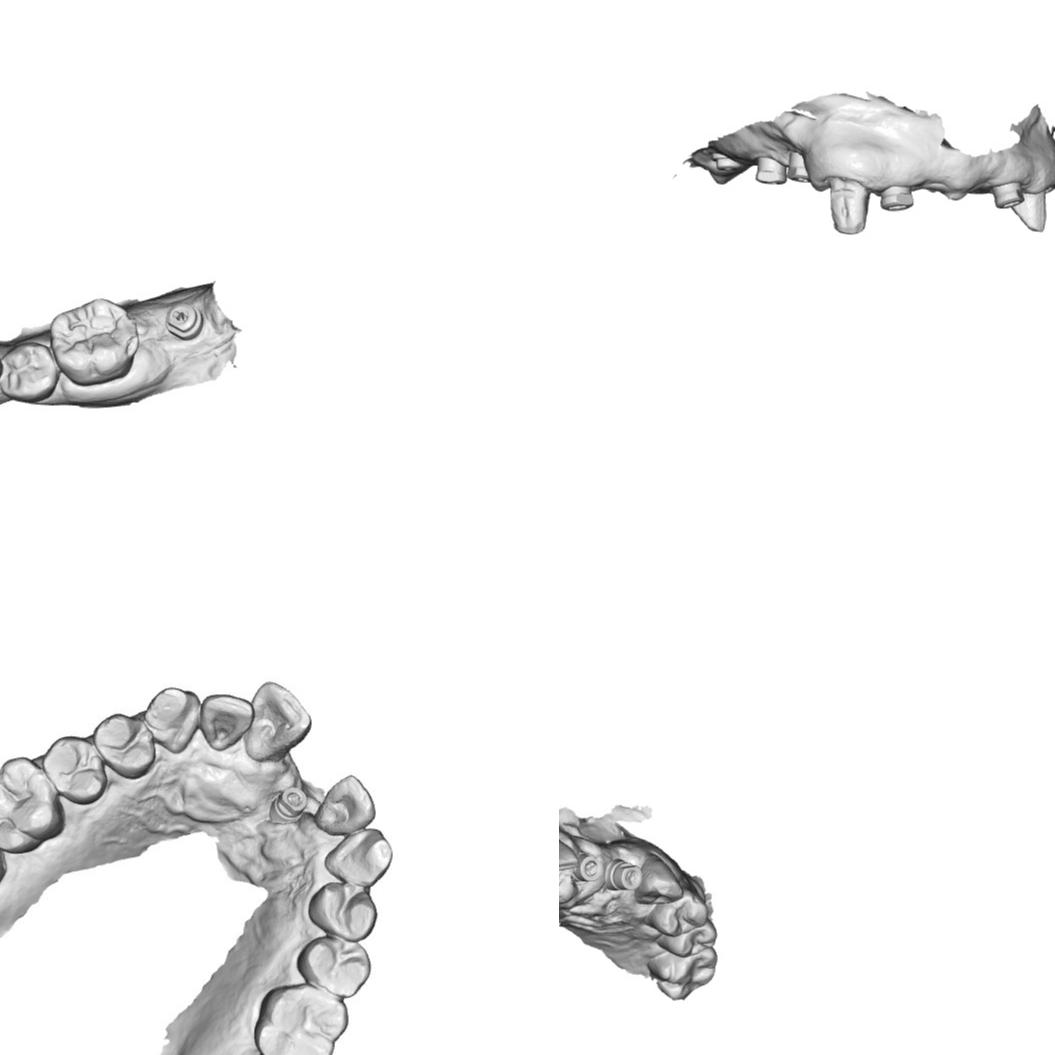canine: (143, 684, 200, 756), (323, 827, 391, 887), (632, 850, 686, 906)
implant: (262, 781, 313, 830), (603, 854, 644, 893), (570, 848, 606, 886), (754, 154, 790, 188), (711, 146, 745, 176), (784, 156, 813, 186)
implant_minus: (162, 299, 204, 342), (990, 178, 1025, 210), (878, 183, 915, 213)
incisor: (248, 682, 308, 760), (322, 770, 371, 838), (201, 691, 251, 752), (559, 831, 580, 882)
molar: (49, 297, 140, 387), (0, 754, 64, 854), (259, 987, 350, 1055), (646, 944, 718, 1002)
premolar: (292, 935, 375, 999), (91, 705, 157, 780), (307, 881, 380, 941), (46, 736, 112, 802), (0, 341, 60, 403), (642, 886, 710, 938), (655, 914, 718, 960)
